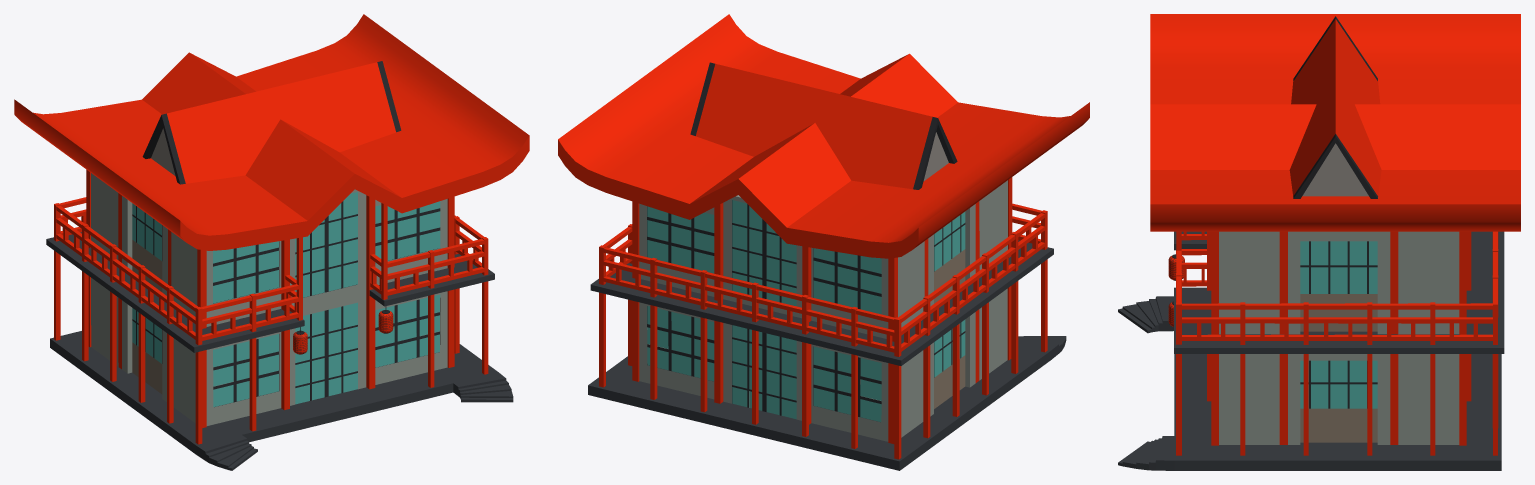
The model's file is Building_3.fbx.
The picture shows the model from 3 angles, left to right: view 1: azimuth 30°, elevation 25°; view 2: azimuth 150°, elevation 25°; view 3: azimuth 270°, elevation 25°; orthographic projection. The views are drawn at different scales.
Parts seen in each view (by area): view 1: Building_3; view 2: Building_3; view 3: Building_3.
Boxes of the visible parts, x1,y1,x2,y2 form: Building_3: (14, 14, 529, 470); Building_3: (558, 14, 1089, 470); Building_3: (1118, 14, 1520, 470).
Bounding box in the file's own units: 766 × 583 × 685.
